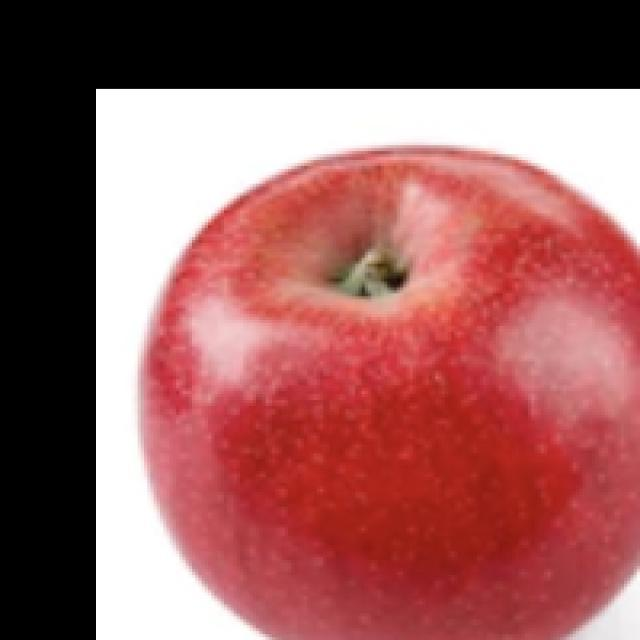Fresh Apple: (161, 150, 640, 640)
